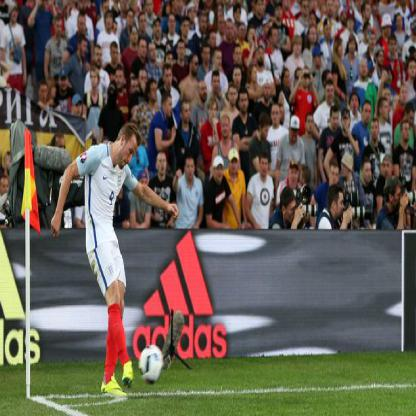corner kick: (16, 107, 181, 404)
